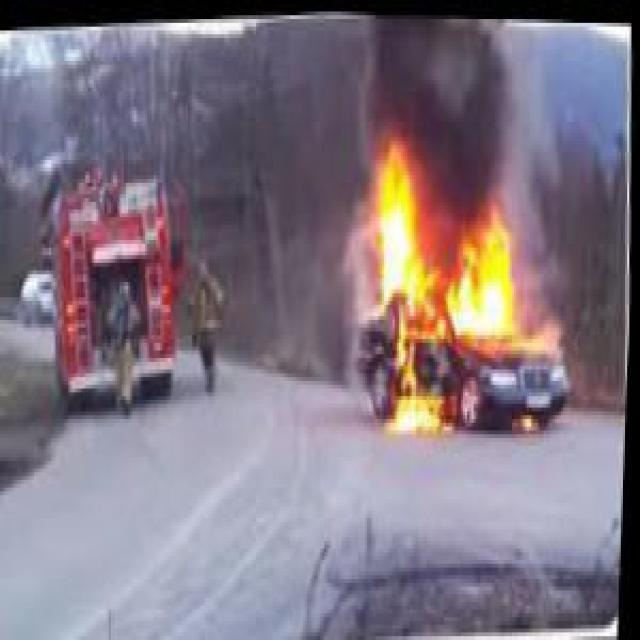Fire: (354, 114, 523, 438)
Smoke: (358, 12, 520, 148)
